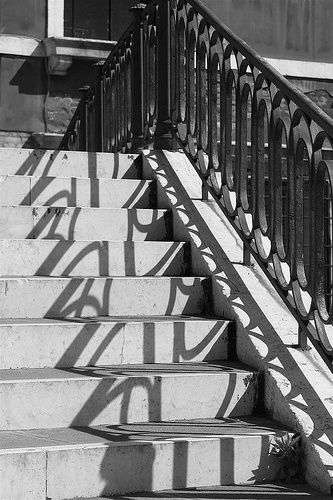stairs_up: (1, 147, 319, 500)
